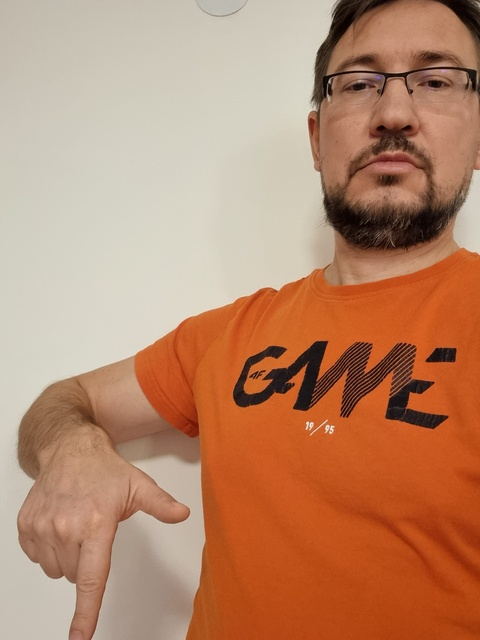GestDown: (18, 473, 187, 637)
